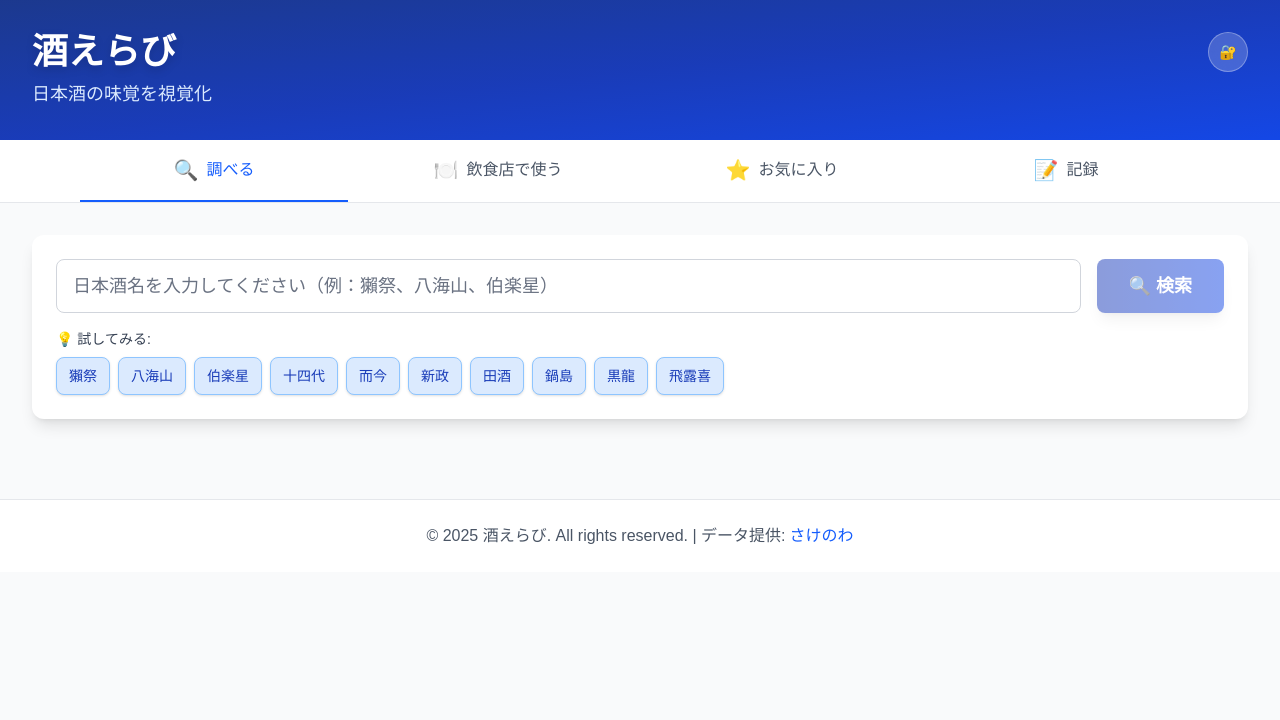
it: HomeClient search via Server Actions › 0件: ダイアログに「該当する日本酒が見つかりませんでした」を表示
In the field with placeholder "日本酒名を入力してください（例：獺祭、八海山、伯楽星）": (568, 286) [56,259,1080,313], type "存在しない"
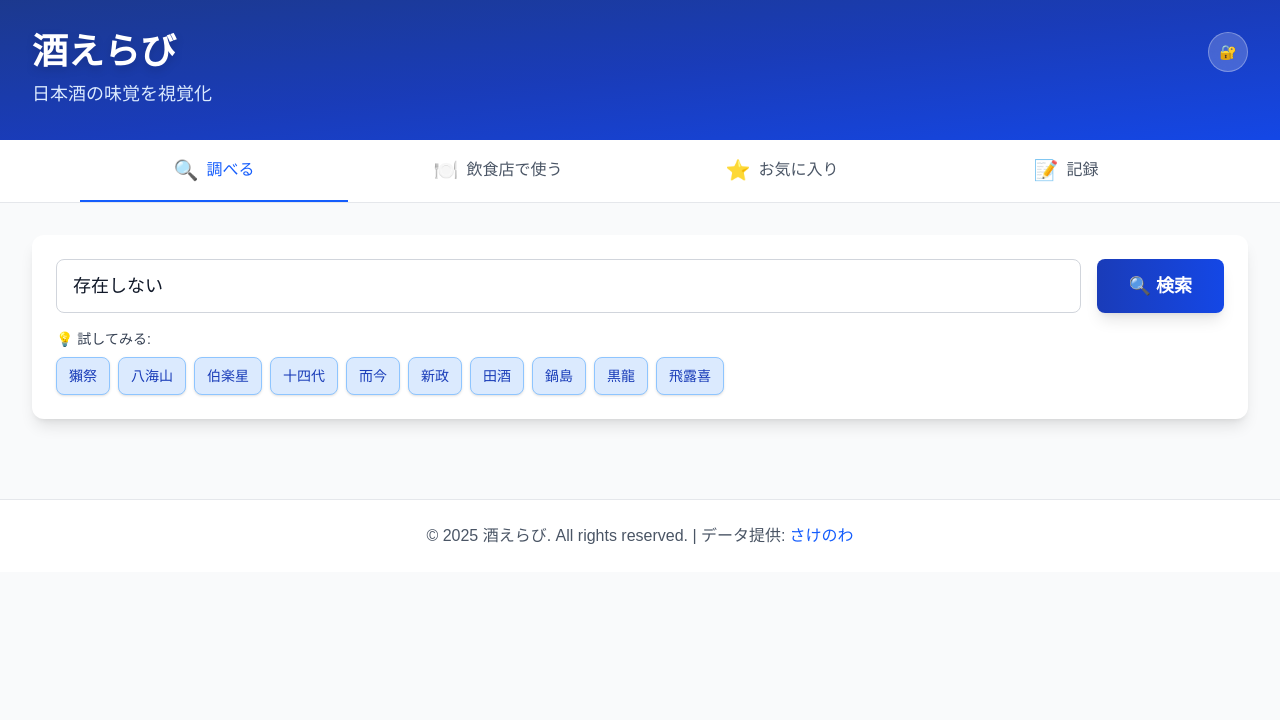
Click the button "🔍 検索": (1160, 286) [1096,259,1224,313]
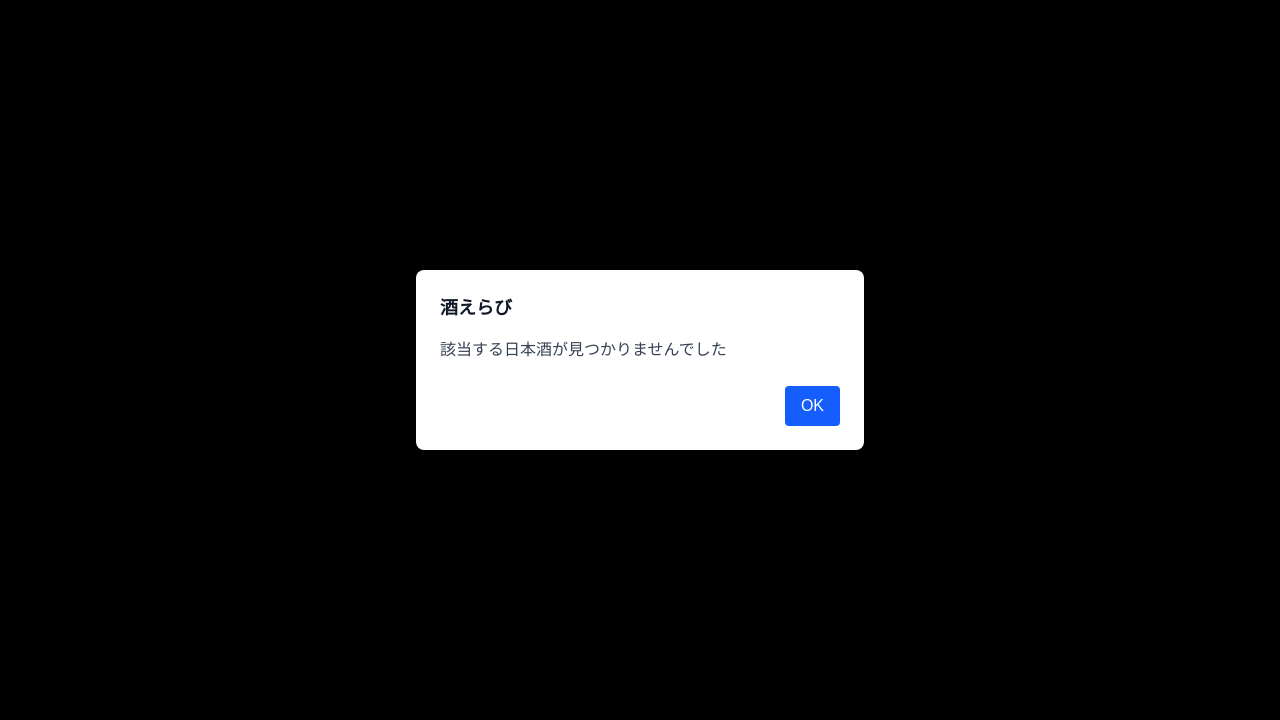
Now the text "該当する日本酒が見つかりませんでした" is shown, box [440,341,727,358]
